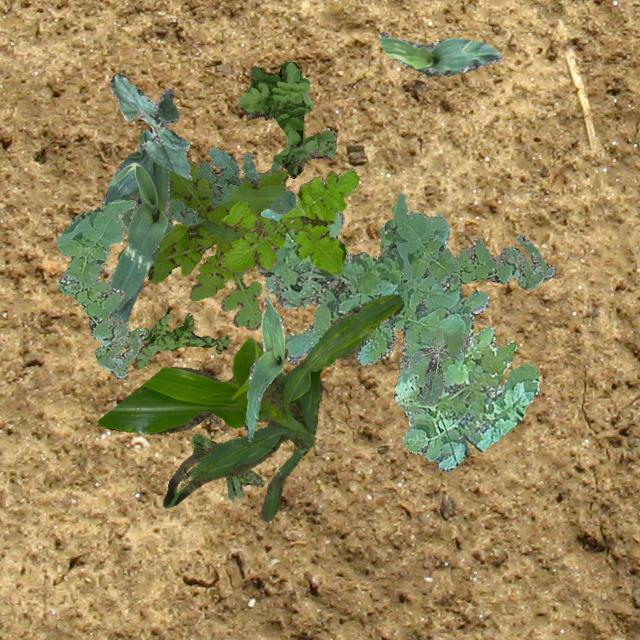crop: (96, 294, 402, 520), (100, 128, 168, 322), (110, 73, 190, 178), (378, 30, 502, 76), (244, 294, 282, 440)
weed: (255, 212, 539, 470), (116, 160, 286, 330), (390, 192, 554, 294), (56, 198, 144, 378), (122, 146, 294, 235), (220, 168, 358, 274), (238, 61, 336, 178), (260, 206, 342, 308), (123, 312, 230, 368), (192, 432, 264, 500), (403, 329, 468, 404)
